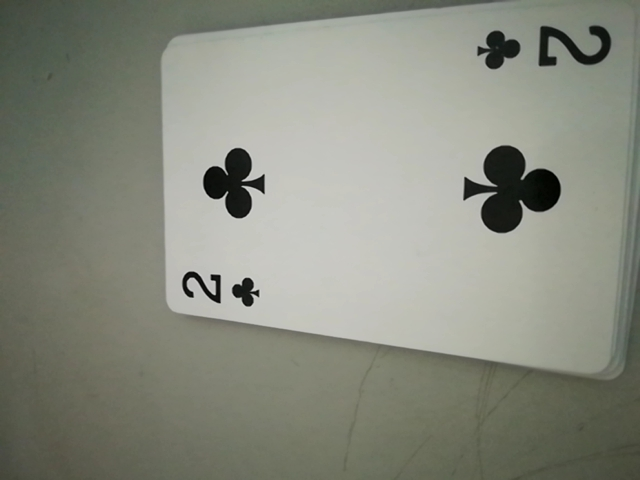mh 2: (475, 17, 611, 81), (175, 263, 270, 316)
